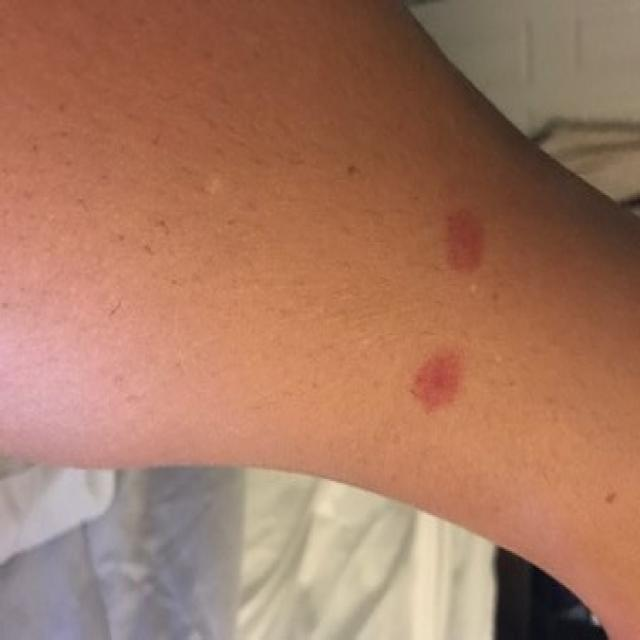kene: (405, 340, 467, 419), (438, 200, 489, 279)
